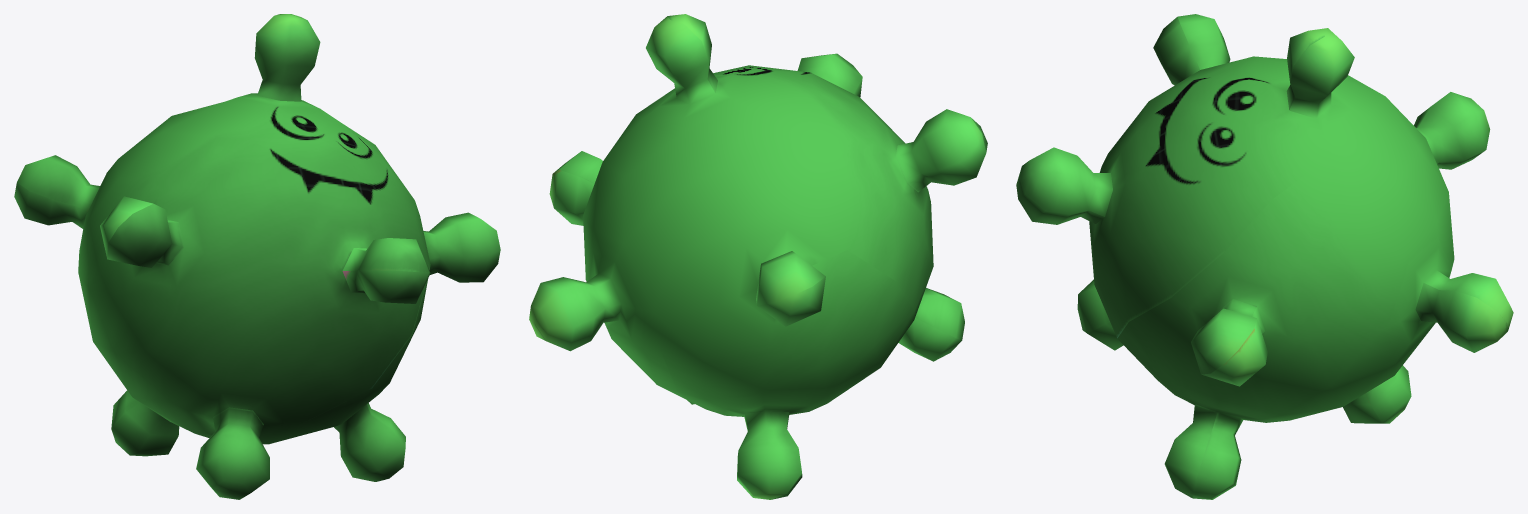
File: GreenGermPlayer.fbx
The picture shows the model from 3 angles, left to right: view 1: azimuth 30°, elevation 25°; view 2: azimuth 150°, elevation 25°; view 3: azimuth 270°, elevation 25°; orthographic projection. The views are drawn at different scales.
Parts seen in each view (by area): view 1: GreenPlayer; view 2: GreenPlayer; view 3: GreenPlayer.
Boxes of the visible parts, x1,y1,x2,y2 form: GreenPlayer: (14,14,500,499); GreenPlayer: (529,14,987,499); GreenPlayer: (1016,14,1513,499).
Bounding box in the file's own units: 9632 × 9740 × 9724.
